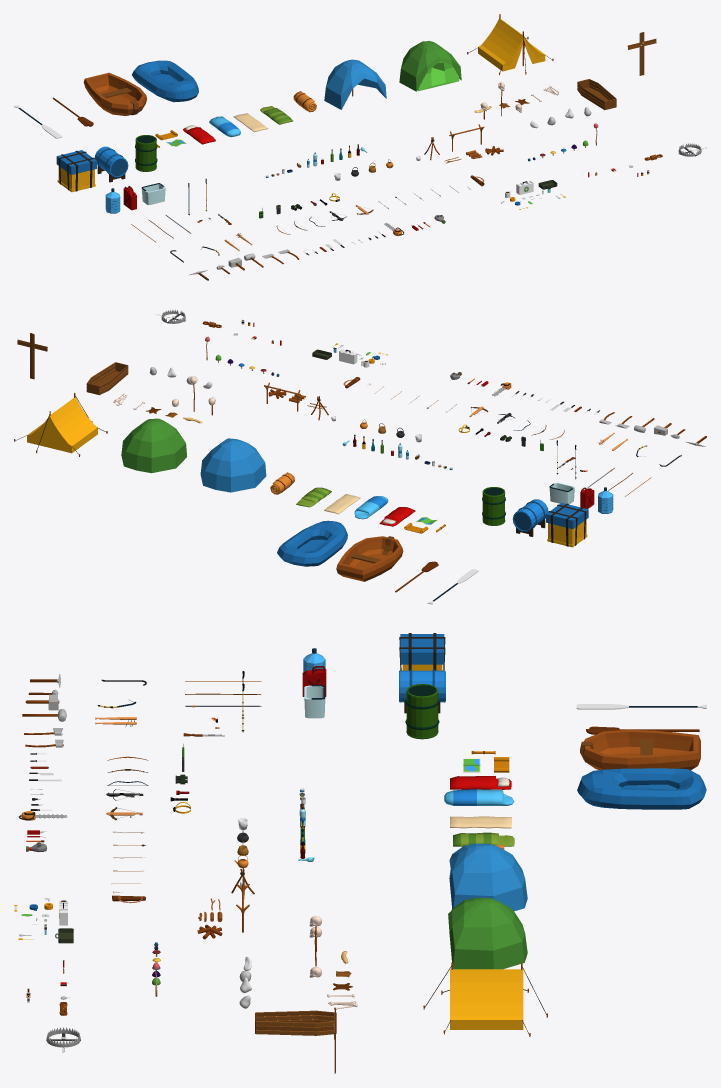
The model's file is Survival_Crafting_Pack.fbx.
3 views of the same model, one above another, from view 1: azimuth 30°, elevation 25°; view 2: azimuth 150°, elevation 25°; view 3: azimuth 270°, elevation 25° (orthographic). The views are drawn at different scales.
Visible parts, largest first — view 1: Tent_02, Tent_03, Boat_02, Boat_01, Tent_01, Crate, OilBarrel_01, OilBarrel_02, Coffin_p1, FoodCooler_p1; view 2: Tent_02, Tent_01, Tent_03, Boat_02, Boat_01, Crate, OilBarrel_01, OilBarrel_02, Coffin_p1, FoodCooler_p1, BagBed_02; view 3: Tent_02, Boat_02, Tent_03, Boat_01, Tent_01, Coffin_p1, OilBarrel_02, Crate, OilBarrel_01, BagBed_02, BagBed_01, Bed_01 (+2 smaller).
Boxes of the visible parts, x1,y1,x2,y2 form: Tent_02: (399,41,461,91); Tent_03: (467,14,553,75); Boat_02: (132,60,198,102); Boat_01: (83,72,146,115); Tent_01: (324,59,386,109); Crate: (56,150,96,192); OilBarrel_01: (94,146,128,182); OilBarrel_02: (135,135,157,171); Coffin_p1: (577,79,616,110); FoodCooler_p1: (141,183,165,205); Tent_02: (121,418,186,473); Tent_01: (200,438,266,492); Tent_03: (14,392,107,456); Boat_02: (277,520,347,566); Boat_01: (336,536,403,581); Crate: (546,503,588,547); OilBarrel_01: (512,499,548,536); OilBarrel_02: (482,487,505,525); Coffin_p1: (86,362,128,395); FoodCooler_p1: (549,482,574,504); BagBed_02: (354,496,388,519); Tent_02: (448,898,527,969); Boat_02: (577,768,706,809); Tent_03: (423,962,547,1036); Boat_01: (580,729,700,770); Tent_01: (449,843,527,911); Coffin_p1: (255,1010,336,1035); OilBarrel_02: (405,684,439,739); Crate: (399,633,445,670); OilBarrel_01: (399,669,445,713); BagBed_02: (444,789,514,805); BagBed_01: (450,776,511,789); Bed_01: (450,816,511,828).
Bounding box in the file's own units: 3245 × 240 × 2318.
